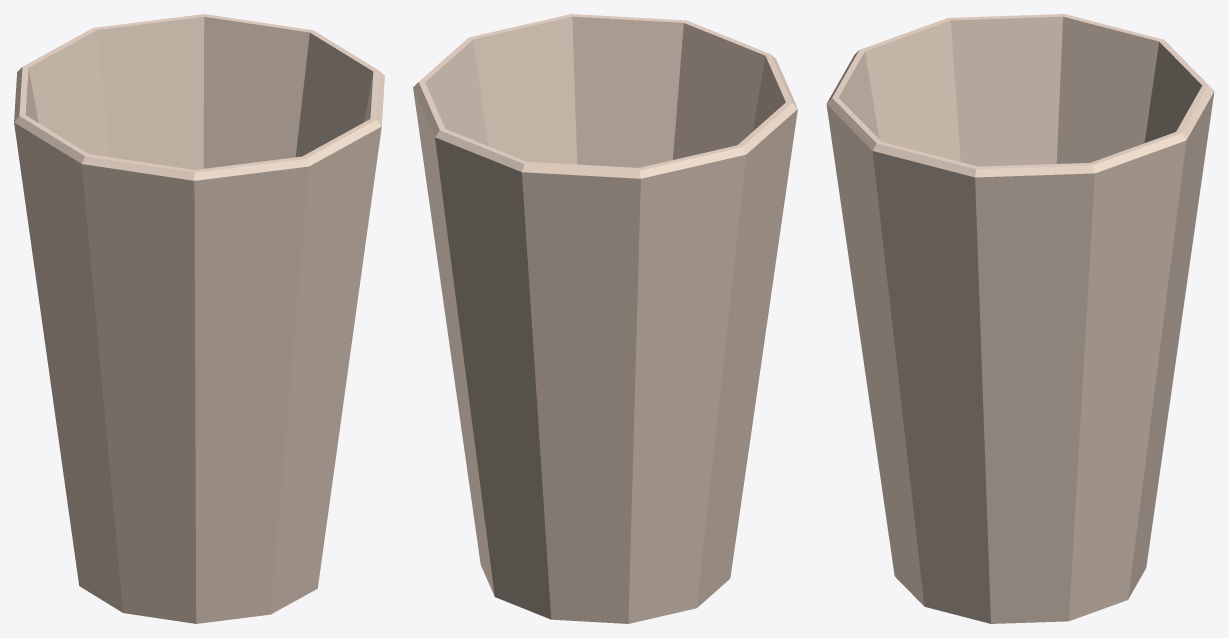
Rendered from Cup_3.fbx.
The picture shows the model from 3 angles, left to right: view 1: azimuth 30°, elevation 25°; view 2: azimuth 150°, elevation 25°; view 3: azimuth 270°, elevation 25°; orthographic projection.
Visible parts, largest first — view 1: polySurface2176; view 2: polySurface2176; view 3: polySurface2176.
Boxes of the visible parts, box(x1,y1,x2,y2) form: polySurface2176: box(14, 14, 384, 623); polySurface2176: box(413, 14, 797, 623); polySurface2176: box(826, 14, 1214, 623).
Bounding box in the file's own units: 0.1979 × 0.2773 × 0.2029.
1 material, 1 textured.
